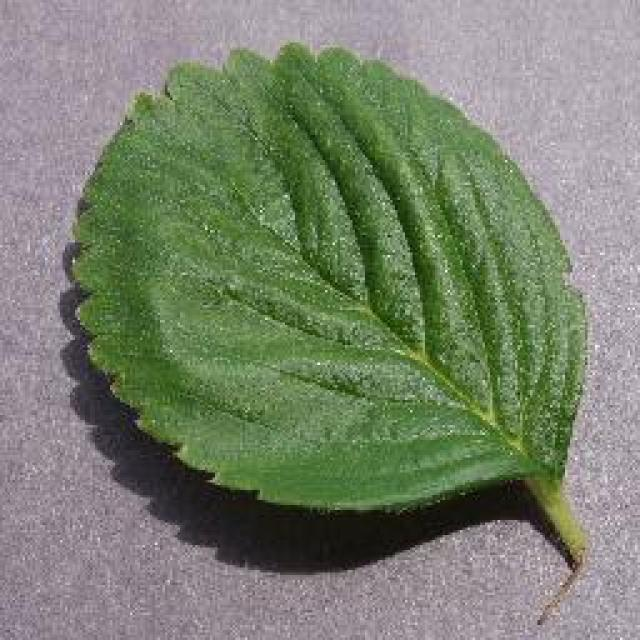Straw_healthy: (78, 91, 547, 460)
